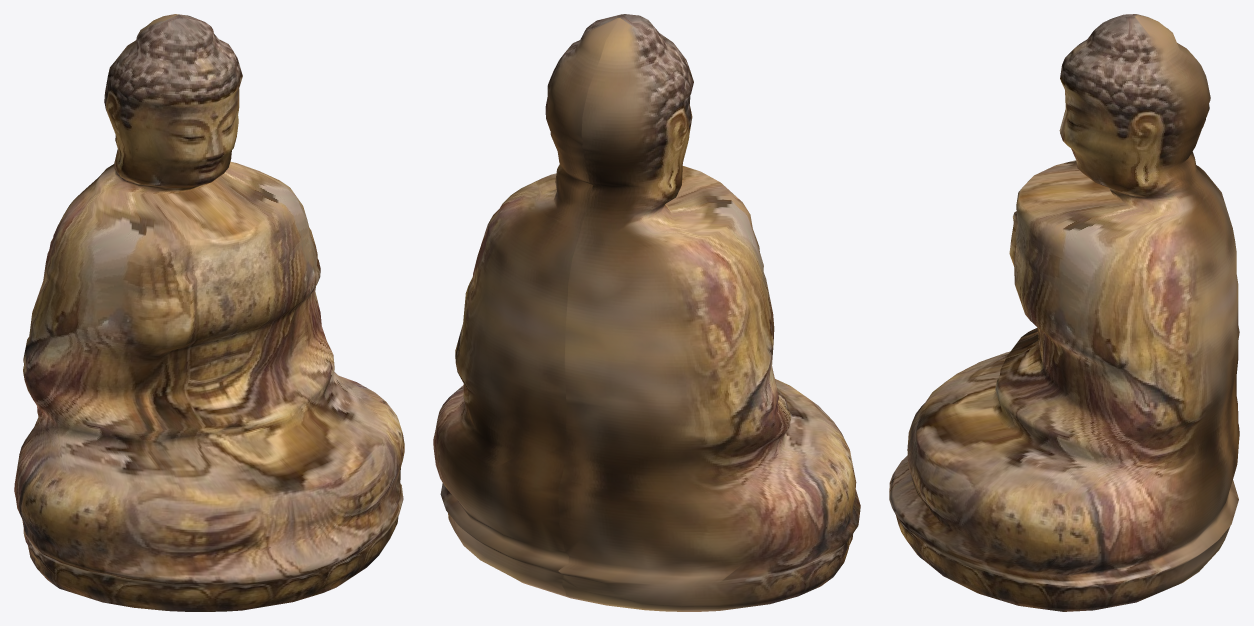
The model's file is seven-4.glb.
3 views of the same model, side by side, from view 1: azimuth 30°, elevation 25°; view 2: azimuth 150°, elevation 25°; view 3: azimuth 270°, elevation 25° (orthographic). The views are drawn at different scales.
Visible parts, largest first — view 1: seven-4; view 2: seven-4; view 3: seven-4.
Boxes of the visible parts, x1,y1,x2,y2 form: seven-4: [14, 14, 404, 611]; seven-4: [433, 14, 860, 611]; seven-4: [889, 14, 1239, 611].
Size of the model in its own units: 0.7407 by 1 by 0.6132.
1 material, 1 textured.
